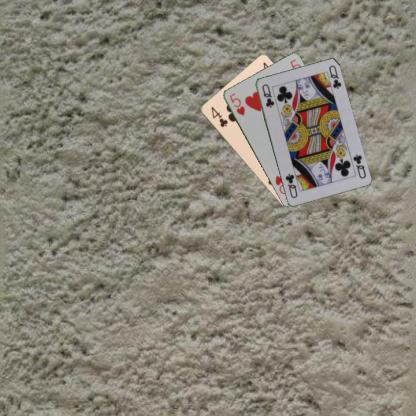4c: (208, 104, 228, 128)
5h: (227, 90, 246, 116)
Qc: (350, 151, 367, 180), (260, 82, 276, 108)
